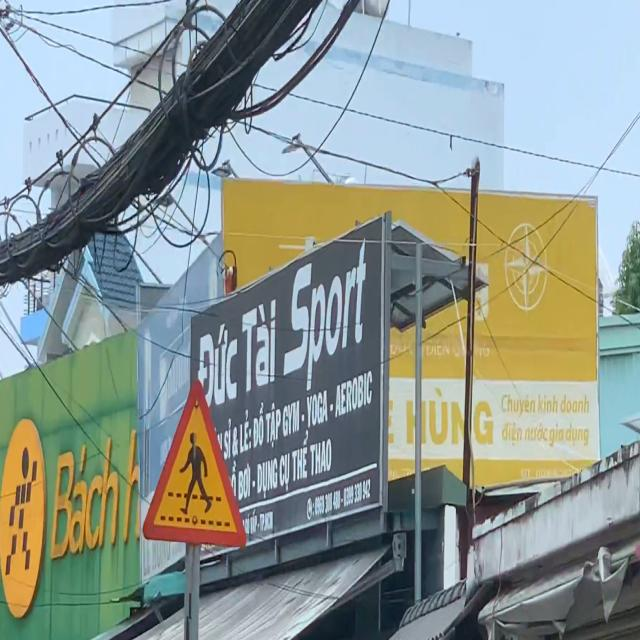Nguoi di bo cat ngang: (142, 377, 247, 550)
